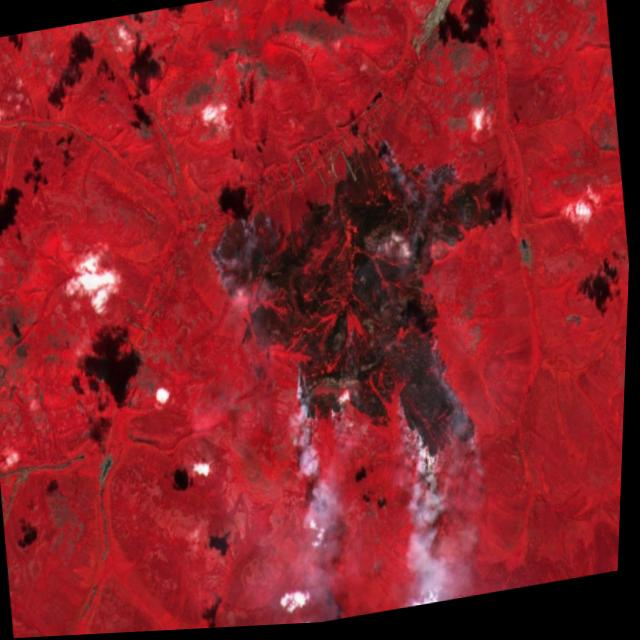fire: (185, 119, 539, 509)
